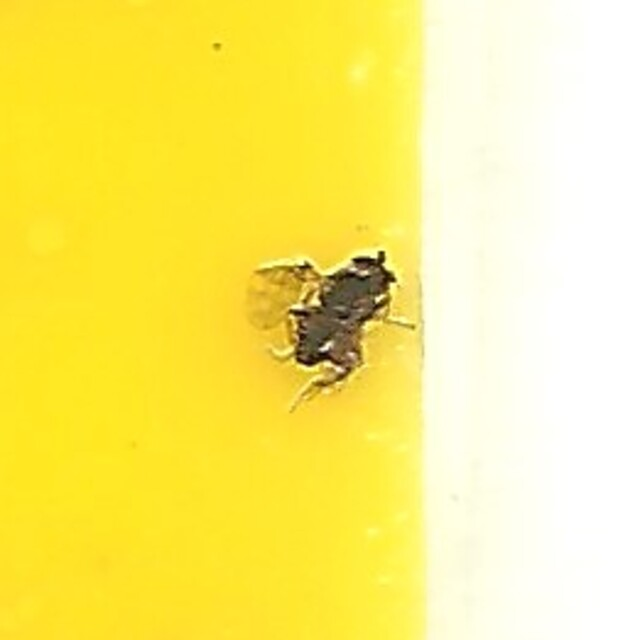Brachycera: (245, 242, 395, 398)
